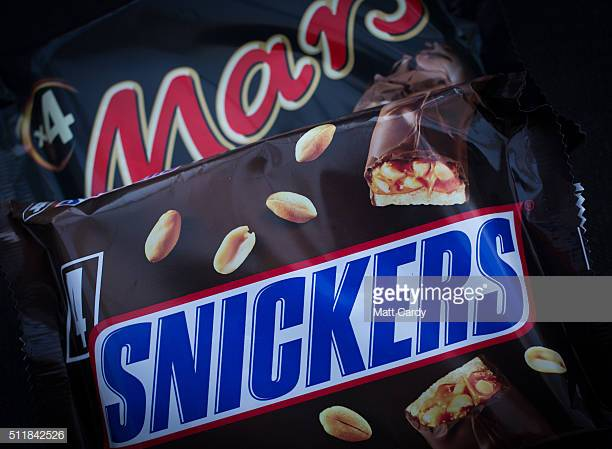snickers: (102, 214, 525, 438)
